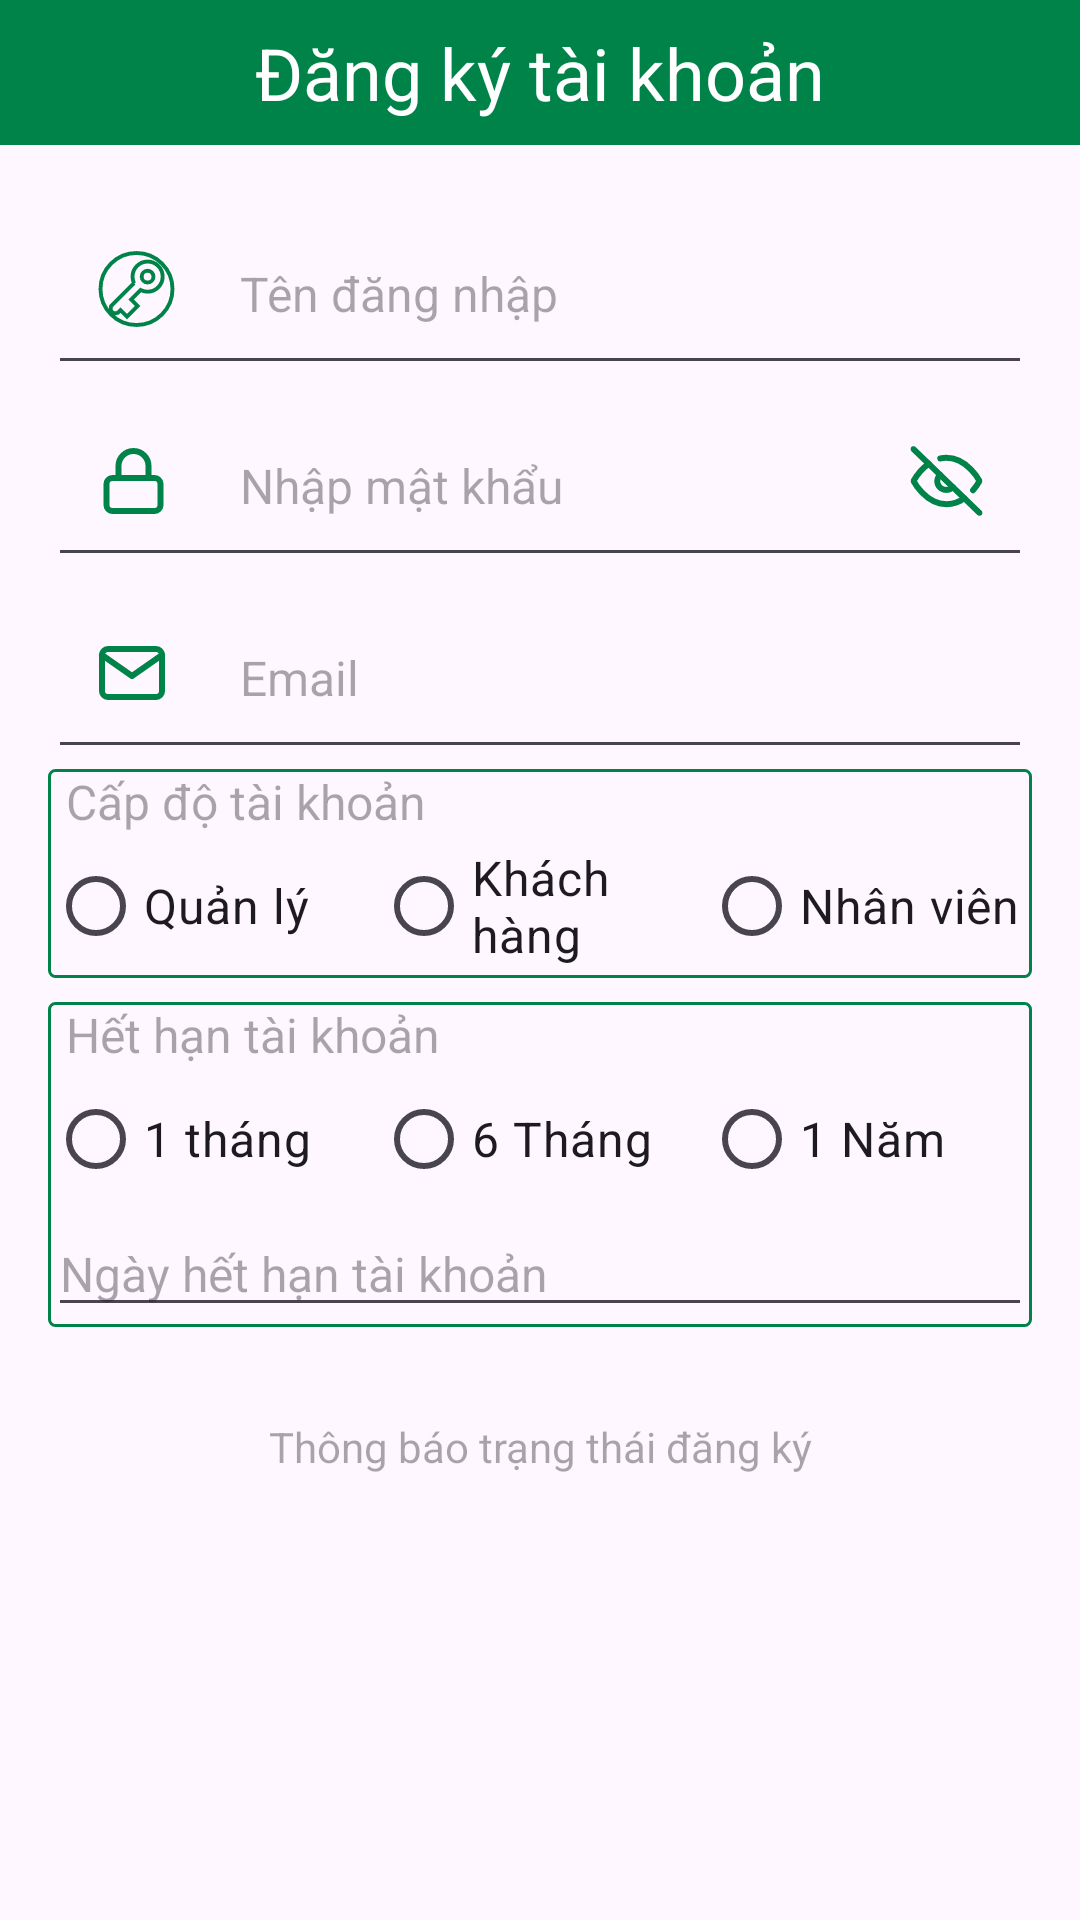

Screen size 1080*1920. Icon name, then its box in pixels as (x1, y1, x2, y2):
key: (98, 251, 175, 327)
password: (103, 448, 164, 514)
showpassword: (910, 446, 983, 516)
